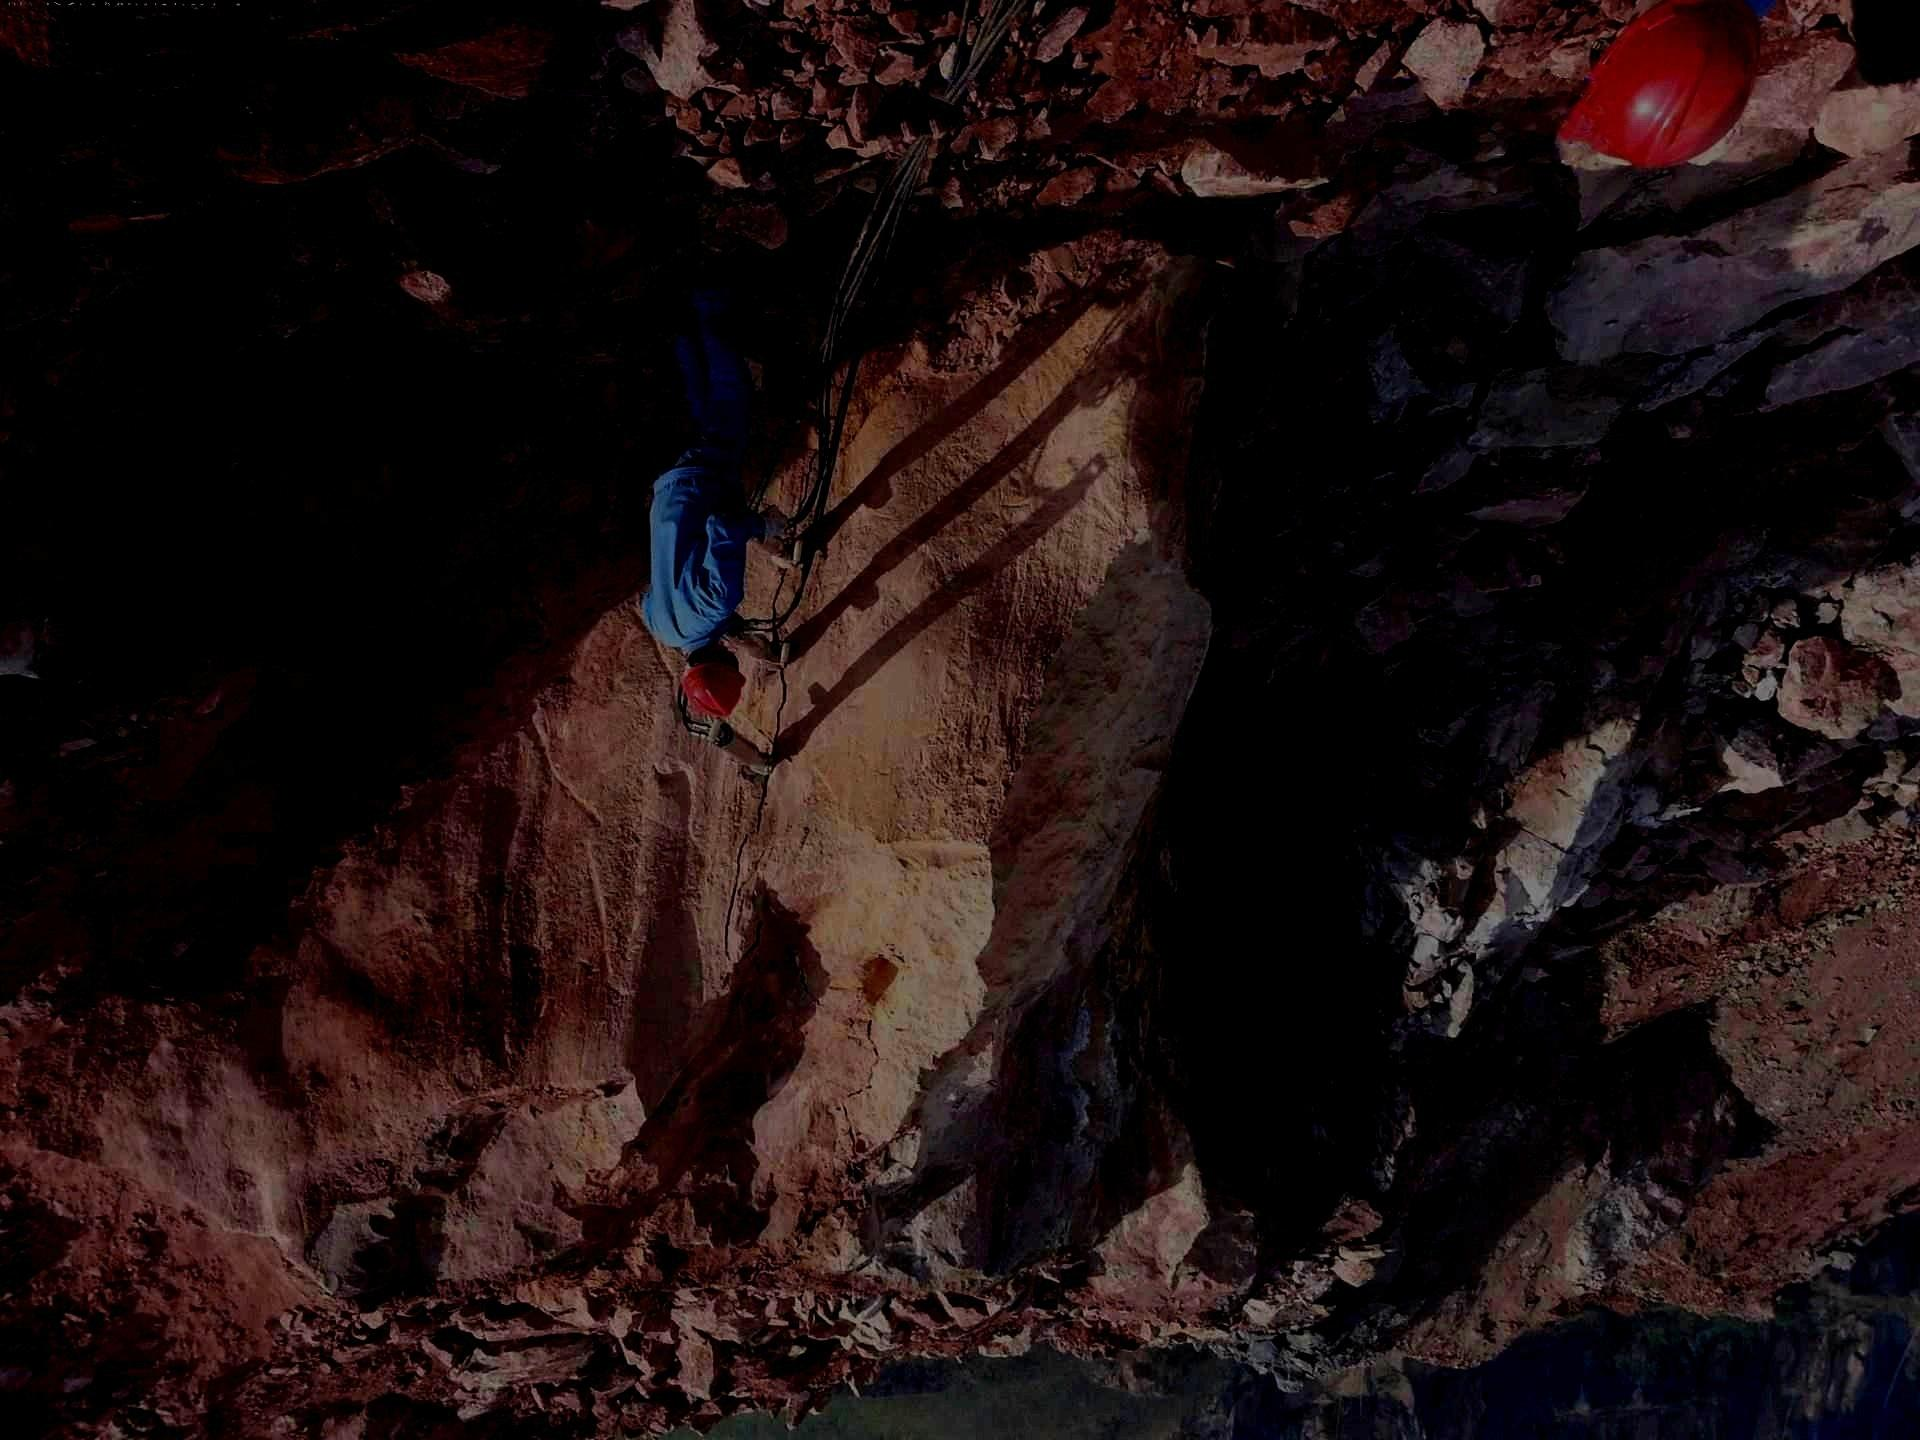helmet: (1556, 2, 1761, 169), (679, 640, 747, 720)
